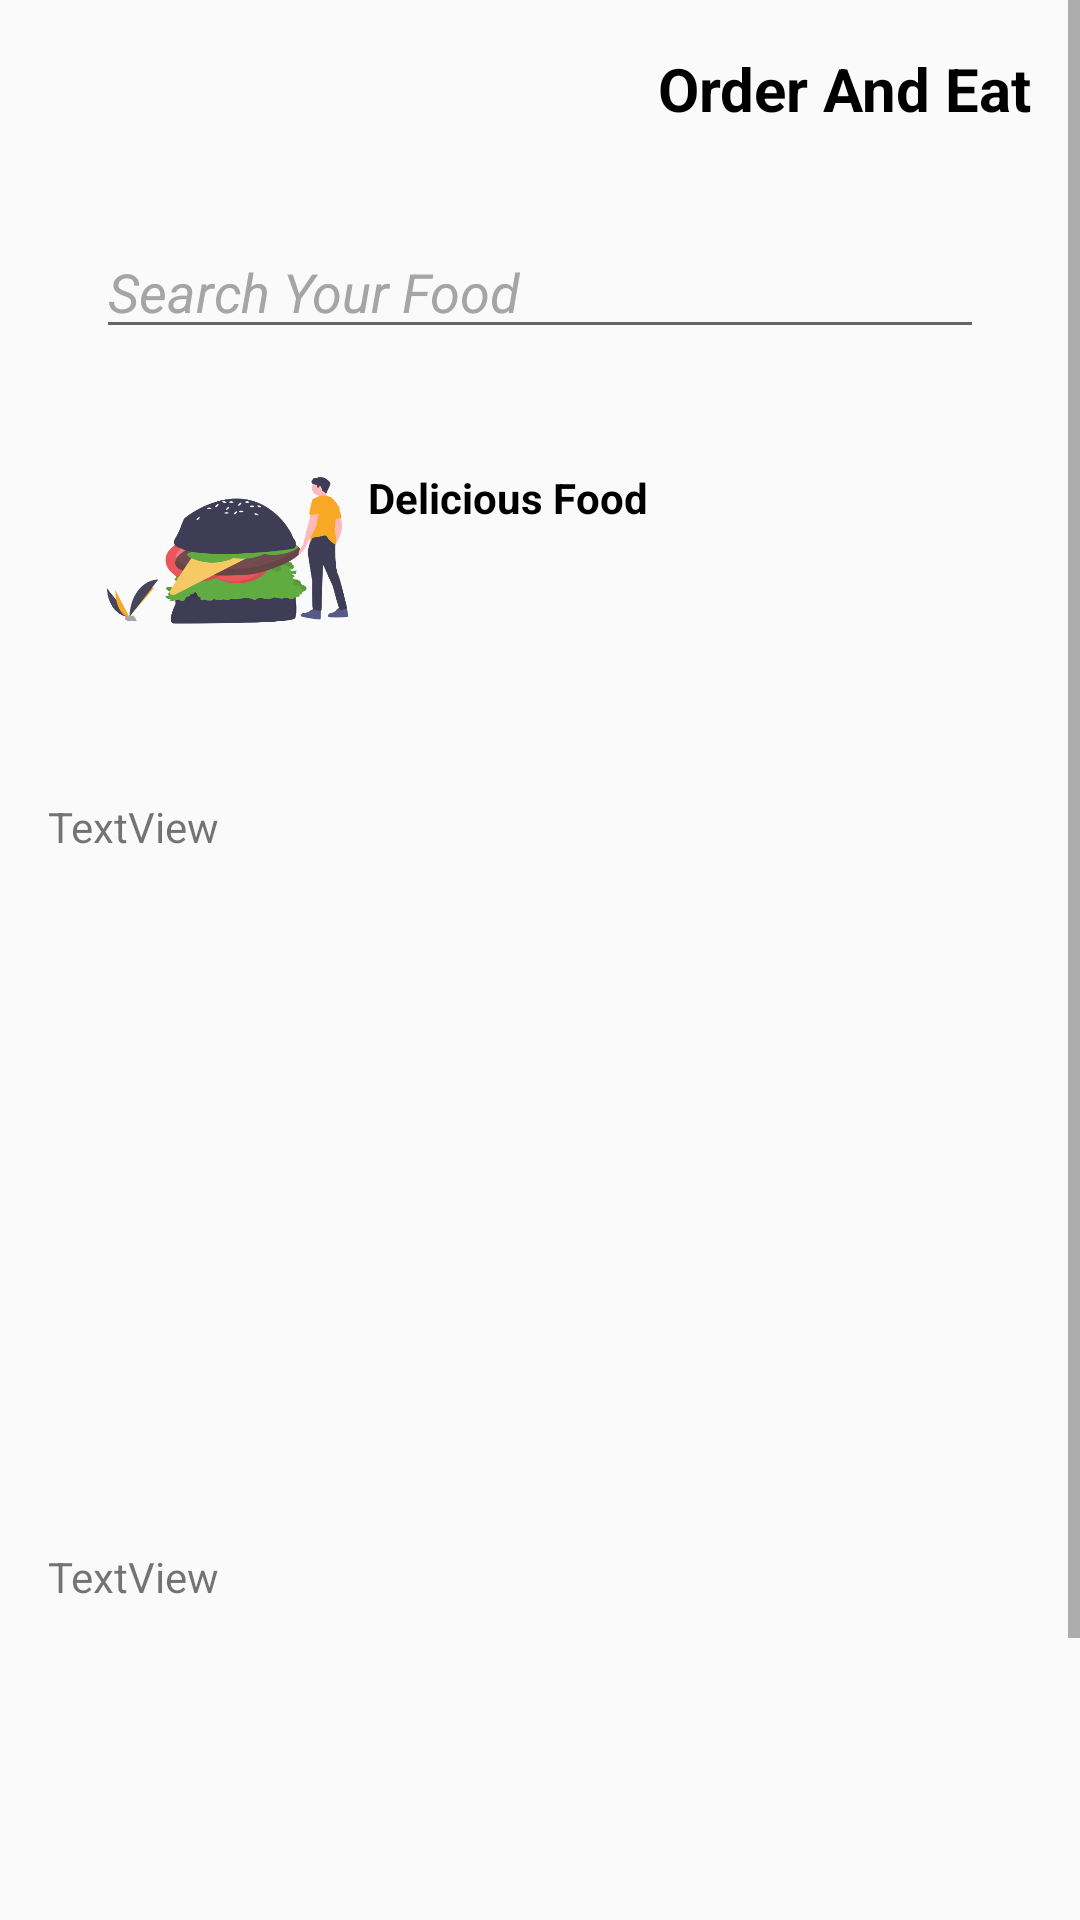

Screen size 1080*1920. Icon name, then its box in pixels as (x1, y1, x2, y2):
hamburger illus: (107, 477, 394, 624)
